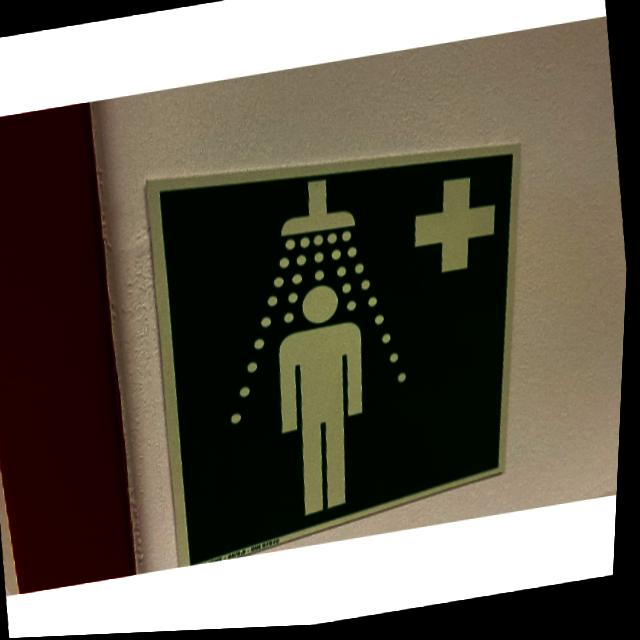shower: (133, 120, 566, 571)
